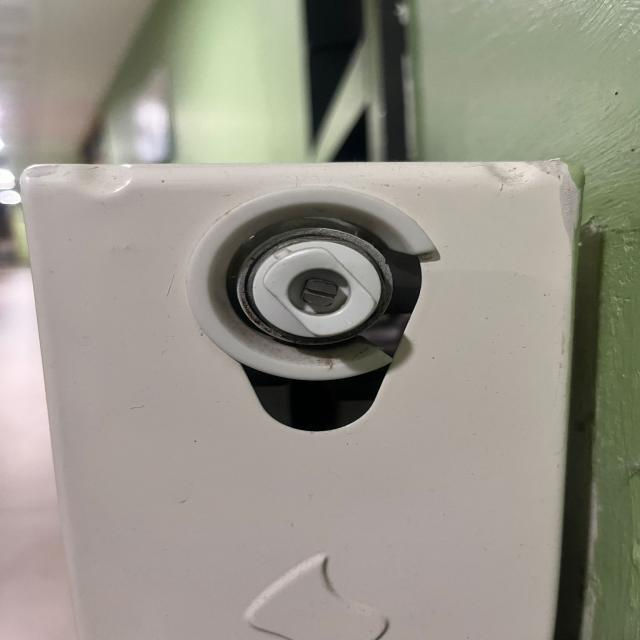duz: (302, 278, 338, 306)
